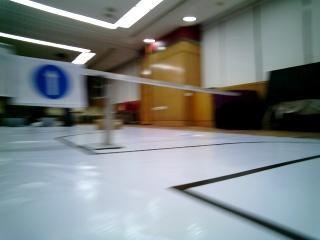straight: (6, 56, 82, 108)
